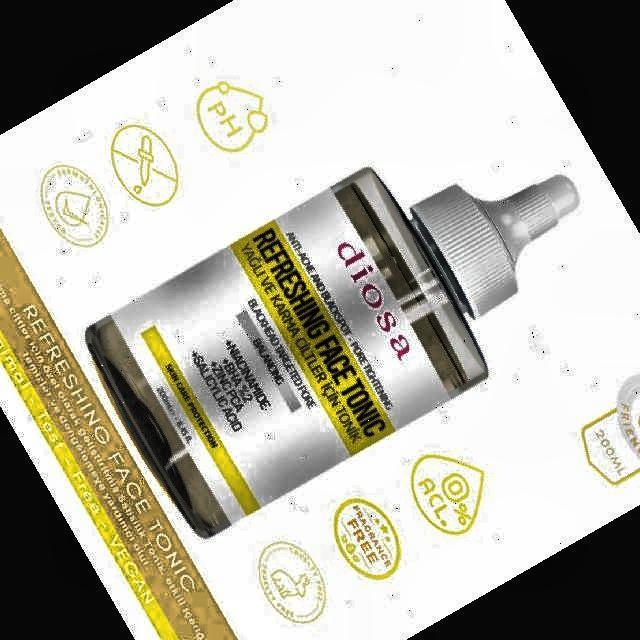plastic: (86, 169, 579, 537)
